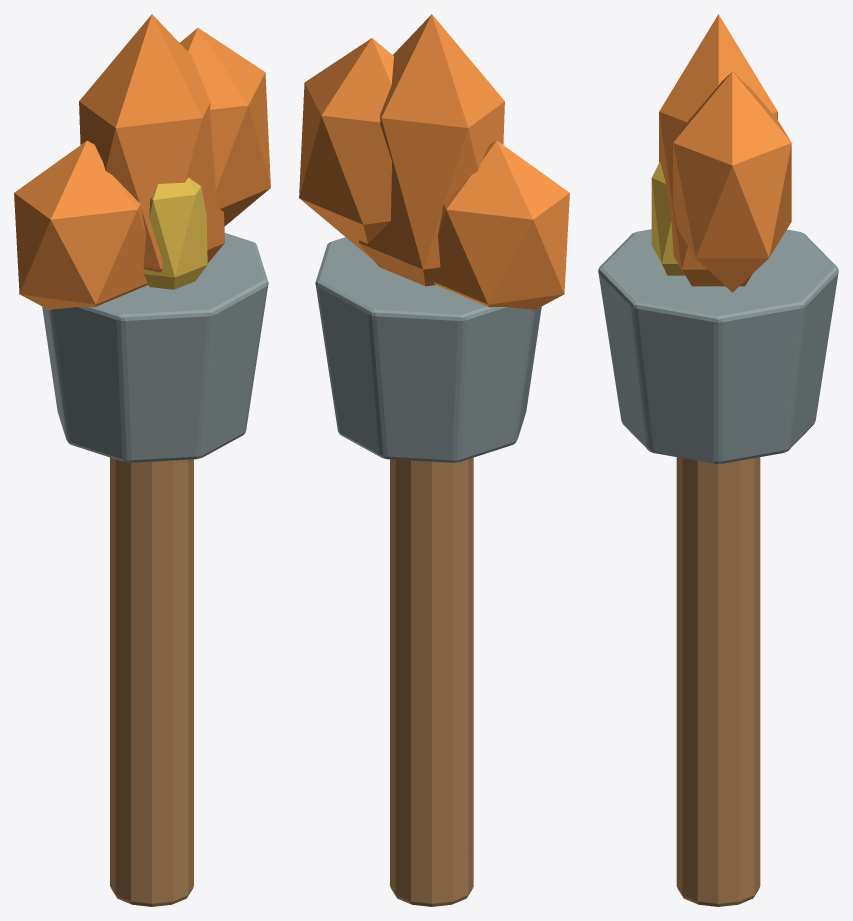
File: P030_fake_torch.glb
The picture shows the model from 3 angles, left to right: view 1: azimuth 30°, elevation 25°; view 2: azimuth 150°, elevation 25°; view 3: azimuth 270°, elevation 25°; orthographic projection.
Parts seen in each view (by area): view 1: P030_handle_001, P030_collar_002, P030_paper_flame_003, P030_paper_flame_005, P030_paper_flame_007, P030_flame_core_004; view 2: P030_handle_001, P030_collar_002, P030_paper_flame_003, P030_paper_flame_005, P030_paper_flame_007; view 3: P030_collar_002, P030_handle_001, P030_paper_flame_007, P030_paper_flame_003, P030_flame_core_004.
Part boxes in pixels (x1,y1,x2,y2): P030_handle_001: [110, 457, 193, 906]; P030_collar_002: [42, 233, 268, 462]; P030_paper_flame_003: [79, 14, 224, 272]; P030_paper_flame_005: [14, 140, 147, 310]; P030_paper_flame_007: [180, 28, 270, 226]; P030_flame_core_004: [144, 177, 207, 289]; P030_handle_001: [390, 457, 473, 906]; P030_collar_002: [315, 237, 541, 462]; P030_paper_flame_003: [359, 14, 504, 286]; P030_paper_flame_005: [433, 140, 569, 310]; P030_paper_flame_007: [299, 38, 393, 258]; P030_collar_002: [598, 229, 838, 463]; P030_handle_001: [676, 457, 760, 906]; P030_paper_flame_007: [673, 71, 791, 292]; P030_paper_flame_003: [659, 14, 777, 286]; P030_flame_core_004: [651, 162, 684, 275].
Bounding box in the file's own units: 0.1674 × 0.555 × 0.1378.
